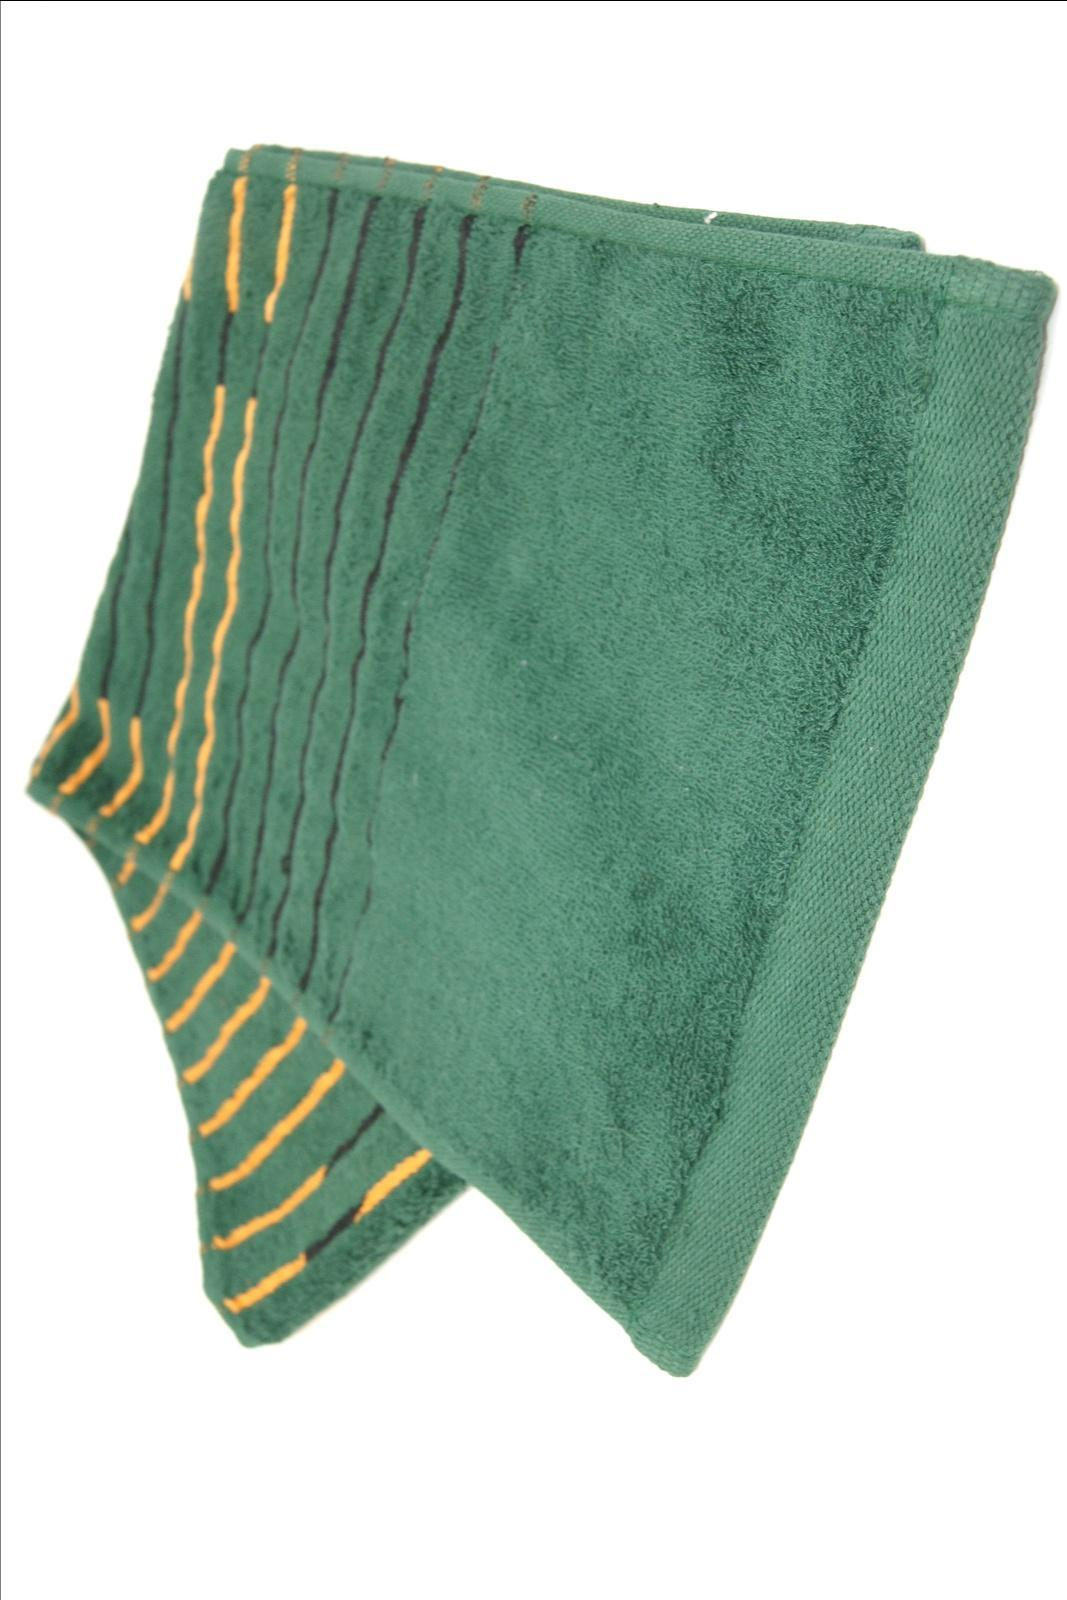towel: (63, 37, 1063, 1483)
